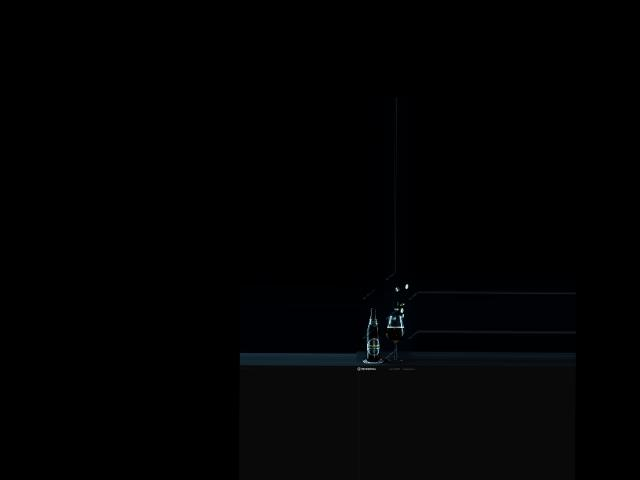beer: (367, 308, 379, 361)
